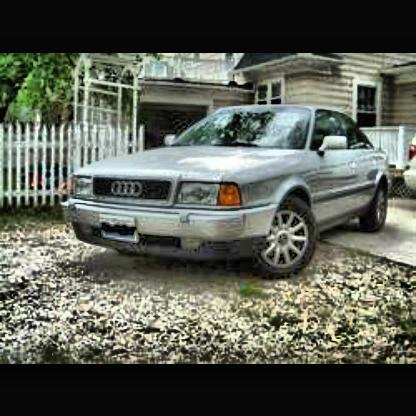Audi V8 Sedan 1994: (64, 103, 400, 282)
